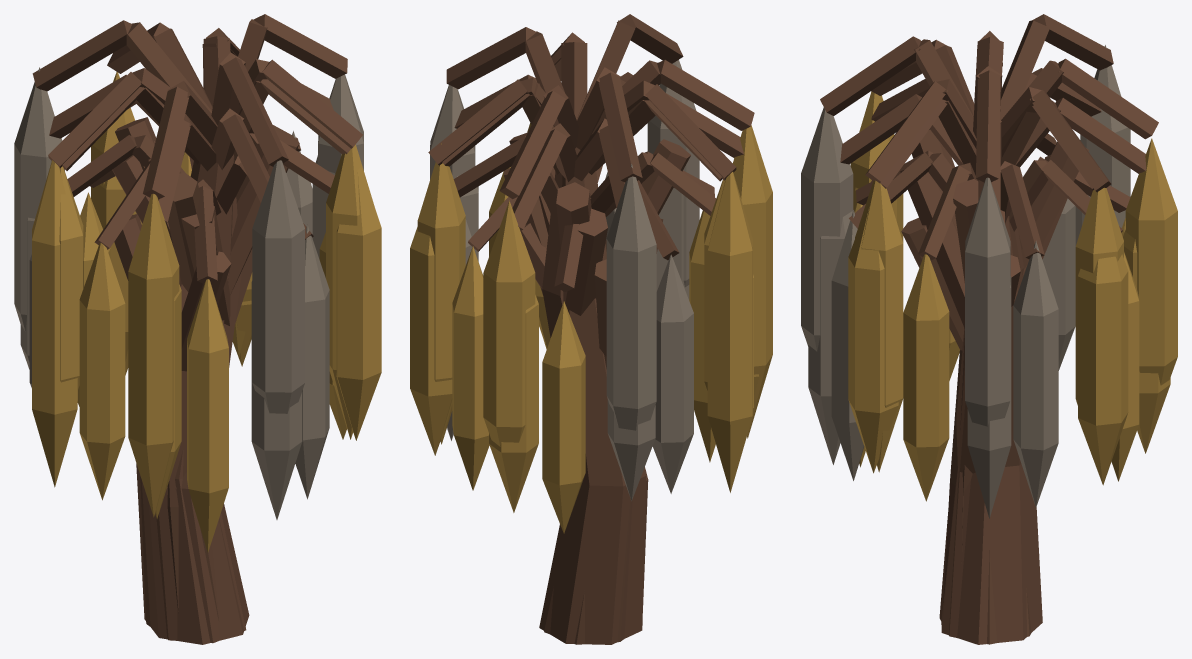
File: tree_willow_winter.glb
3 views of the same model, side by side, from view 1: azimuth 30°, elevation 25°; view 2: azimuth 150°, elevation 25°; view 3: azimuth 270°, elevation 25° (orthographic).
Visible parts, largest first — view 1: Willow_bare_curtain_twigs_canopy.021, Willow_bare_curtain_twigs_canopy.022, Willow_crooked_trunk.002, Willow_bare_curtain_twigs_canopy.012, Willow_bare_curtain_twigs_canopy.023, Willow_bare_curtain_twigs_canopy.013, Willow_bare_curtain_twigs_canopy.020, Willow_bare_curtain_twigs_canopy.014, Willow_bare_curtain_twigs_canopy.019, Willow_crooked_trunk, Willow_bare_curtain_twigs_canopy.006, Willow_bare_curtain_twigs_canopy.004 (+46 smaller); view 2: Willow_crooked_trunk.002, Willow_bare_curtain_twigs_canopy.020, Willow_bare_curtain_twigs_canopy.019, Willow_bare_curtain_twigs_canopy.018, Willow_bare_curtain_twigs_canopy.010, Willow_bare_curtain_twigs_canopy.011, Willow_bare_curtain_twigs_canopy.009, Willow_bare_curtain_twigs_canopy.001, Willow_bare_curtain_twigs_canopy.021, Willow_bare_curtain_twigs_canopy.017, Willow_bare_curtain_twigs_canopy.002, Willow_crooked_trunk (+42 smaller); view 3: Willow_crooked_trunk.002, Willow_bare_curtain_twigs_canopy.016, Willow_bare_curtain_twigs_canopy.017, Willow_bare_curtain_twigs_canopy.008, Willow_bare_curtain_twigs_canopy.015, Willow_bare_curtain_twigs_canopy.018, Willow_bare_curtain_twigs_canopy.023, Willow_bare_curtain_twigs_canopy.022, Willow_bare_curtain_twigs_canopy.007, Willow_crooked_trunk, Willow_bare_curtain_twigs_canopy.014, Willow_bare_curtain_twigs_canopy.006 (+42 smaller).
Part boxes in pixels (x1,y1,x2,y2): Willow_bare_curtain_twigs_canopy.021: (128,193,179,517); Willow_bare_curtain_twigs_canopy.022: (252,160,304,413); Willow_crooked_trunk.002: (136,154,249,644); Willow_bare_curtain_twigs_canopy.012: (79,235,125,500); Willow_bare_curtain_twigs_canopy.023: (336,167,381,440); Willow_bare_curtain_twigs_canopy.013: (187,279,228,552); Willow_bare_curtain_twigs_canopy.020: (32,160,77,487); Willow_bare_curtain_twigs_canopy.014: (295,224,329,499); Willow_bare_curtain_twigs_canopy.019: (14,67,64,331); Willow_crooked_trunk: (140,197,246,643); Willow_bare_curtain_twigs_canopy.006: (251,281,302,519); Willow_bare_curtain_twigs_canopy.004: (59,166,83,390); Willow_crooked_trunk.002: (539,147,646,644); Willow_bare_curtain_twigs_canopy.020: (707,171,752,492); Willow_bare_curtain_twigs_canopy.019: (606,163,656,430); Willow_bare_curtain_twigs_canopy.018: (483,200,535,446); Willow_bare_curtain_twigs_canopy.010: (542,301,585,533); Willow_bare_curtain_twigs_canopy.011: (652,254,693,493); Willow_bare_curtain_twigs_canopy.009: (452,246,489,490); Willow_bare_curtain_twigs_canopy.001: (417,143,465,444); Willow_bare_curtain_twigs_canopy.021: (732,125,772,438); Willow_bare_curtain_twigs_canopy.017: (410,227,452,455); Willow_bare_curtain_twigs_canopy.002: (489,295,538,512); Willow_crooked_trunk: (542,172,648,644); Willow_crooked_trunk.002: (941,179,1042,644); Willow_bare_curtain_twigs_canopy.016: (965,177,1010,426); Willow_bare_curtain_twigs_canopy.017: (1078,254,1128,485); Willow_bare_curtain_twigs_canopy.008: (1013,241,1058,507); Willow_bare_curtain_twigs_canopy.015: (903,254,949,501); Willow_bare_curtain_twigs_canopy.018: (1125,138,1177,385); Willow_bare_curtain_twigs_canopy.023: (848,203,898,473); Willow_bare_curtain_twigs_canopy.022: (801,107,853,351); Willow_bare_curtain_twigs_canopy.007: (855,180,903,472); Willow_crooked_trunk: (939,216,1031,644); Willow_bare_curtain_twigs_canopy.014: (831,210,864,480); Willow_bare_curtain_twigs_canopy.006: (808,211,852,464).
Size of the model in its own units: 1.69 by 2.9 by 1.69.
